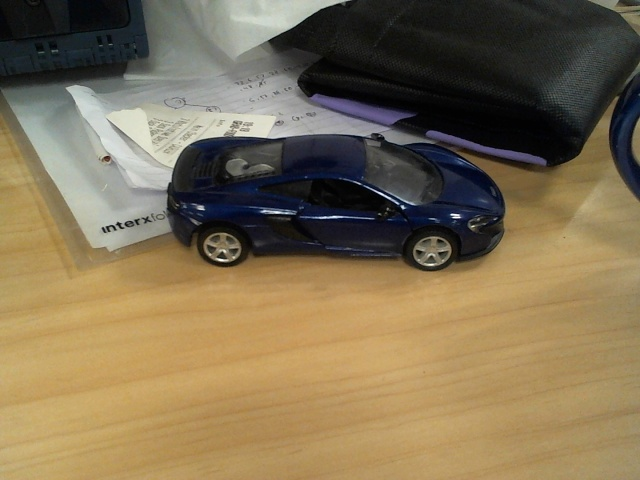car: (166, 133, 506, 271)
